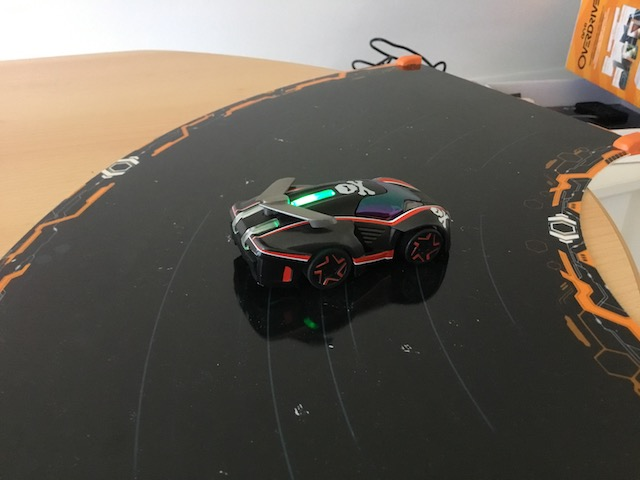car-red: (225, 170, 456, 299)
